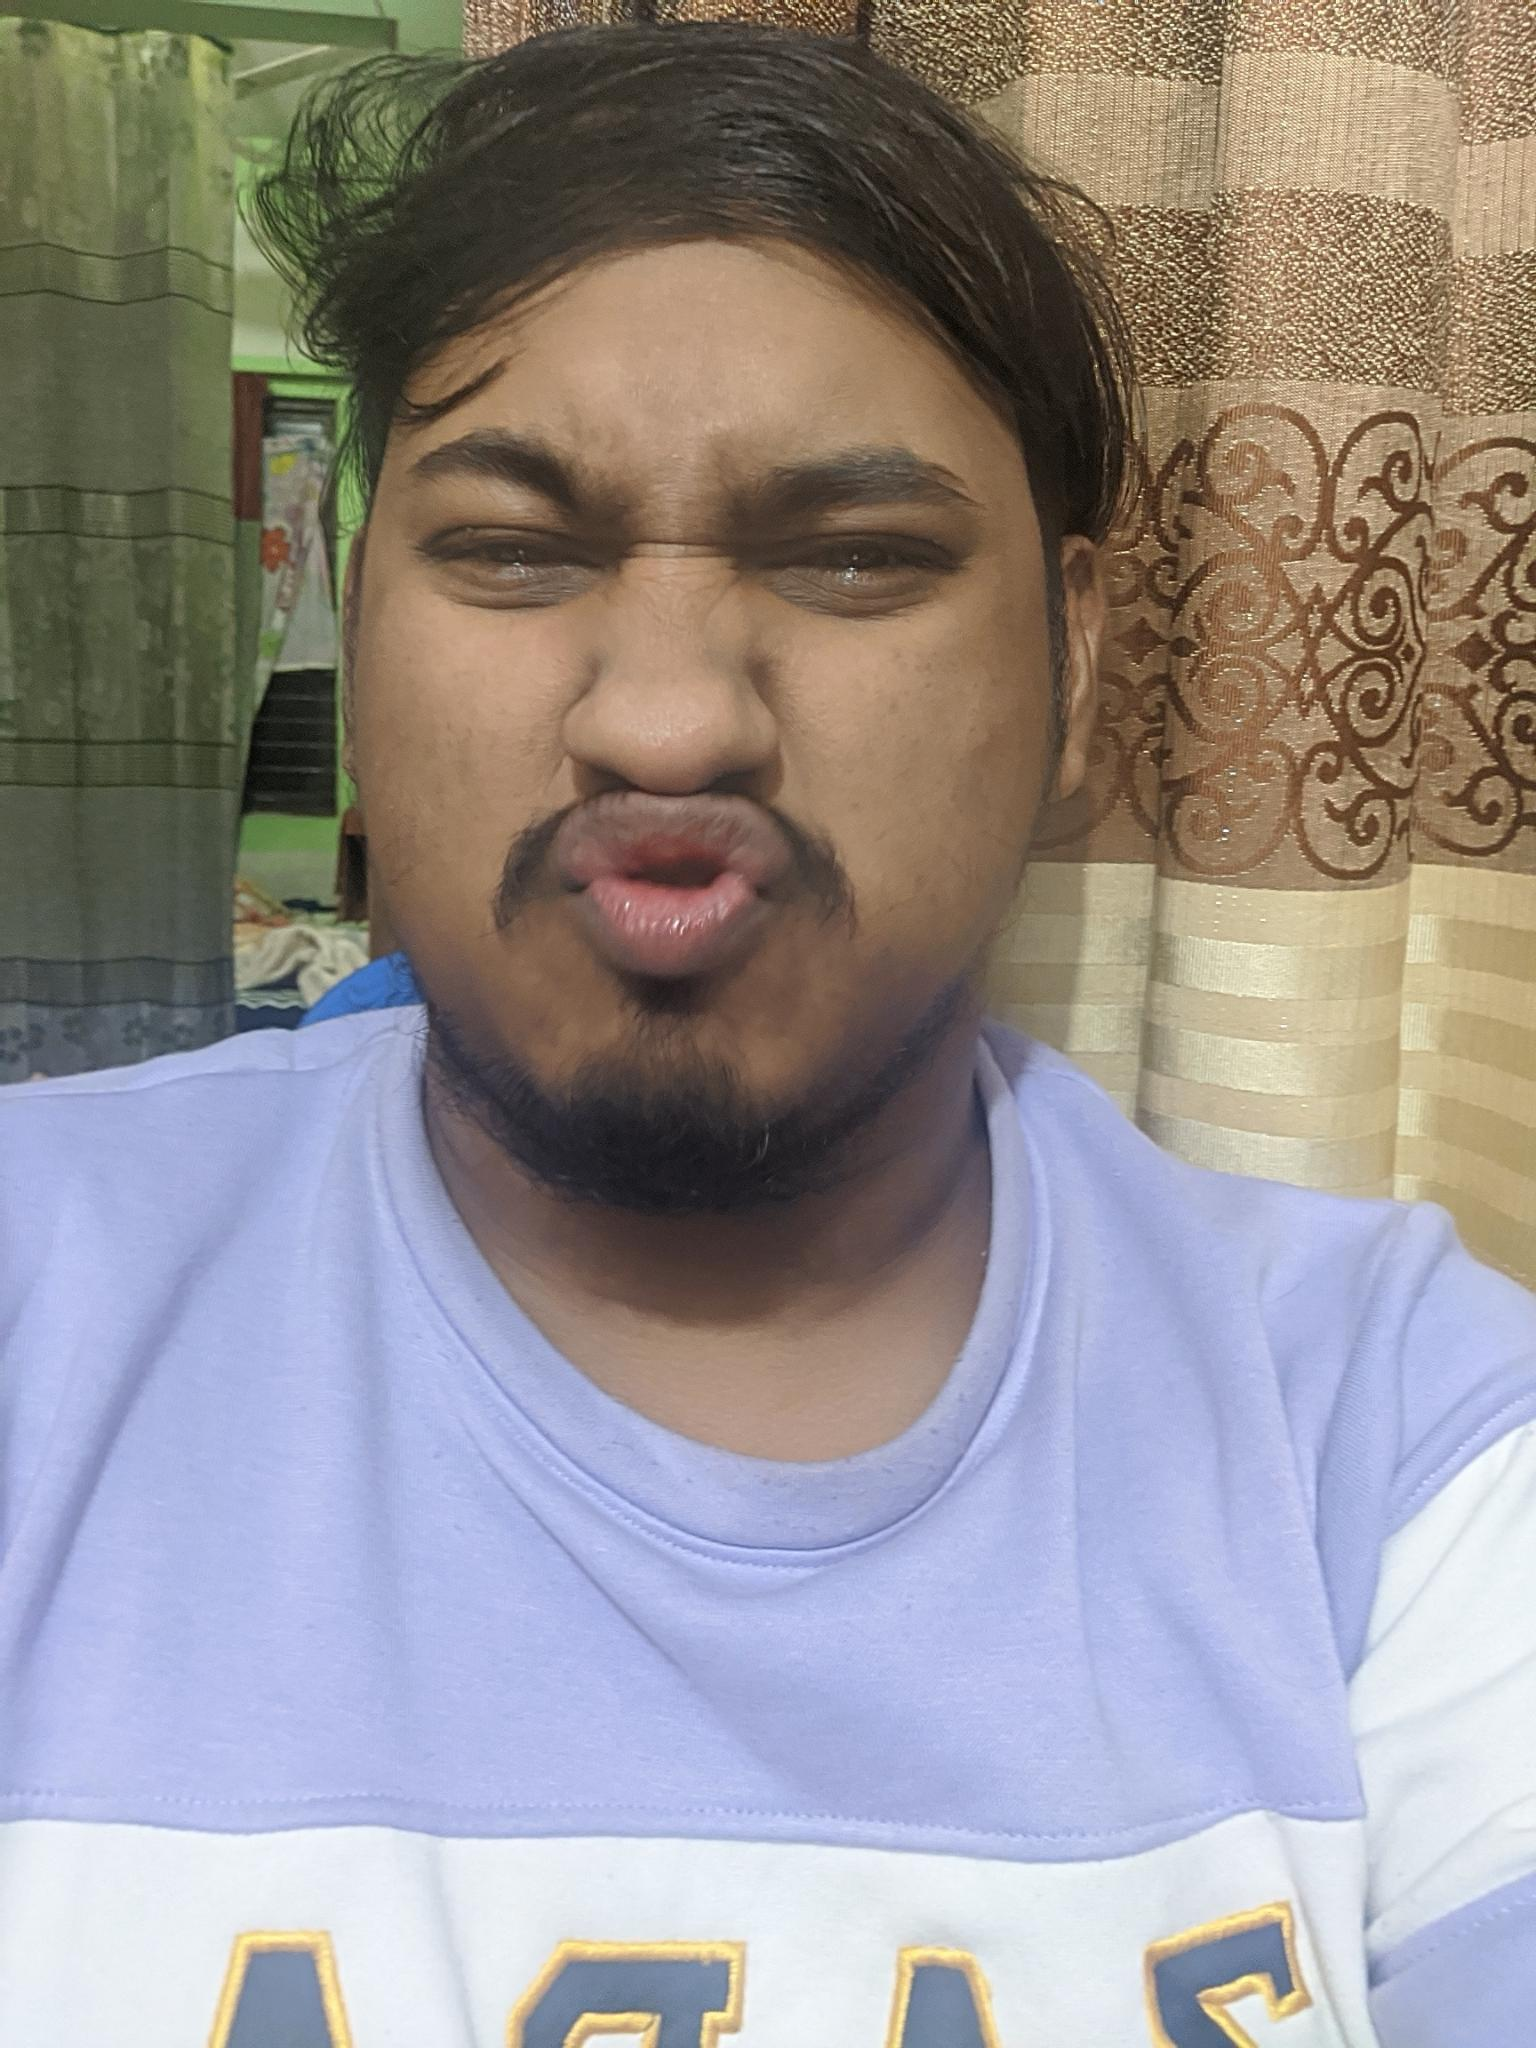Disgust: (347, 343, 1013, 1177)
